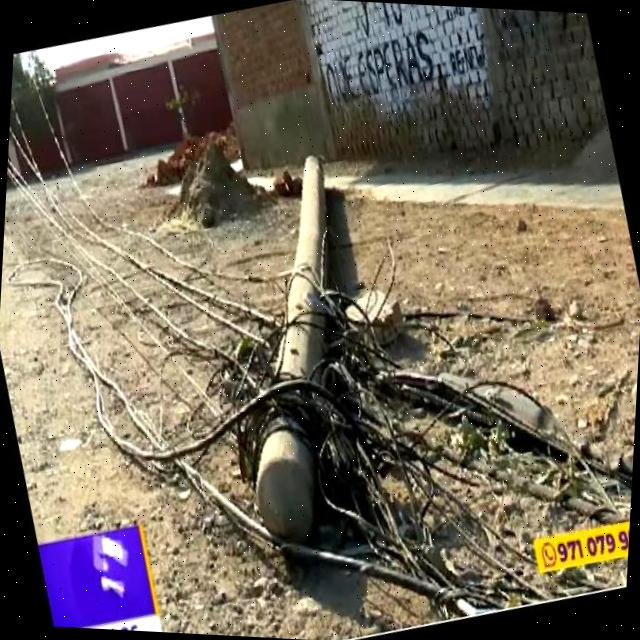Broken Pole: (237, 147, 338, 559)
